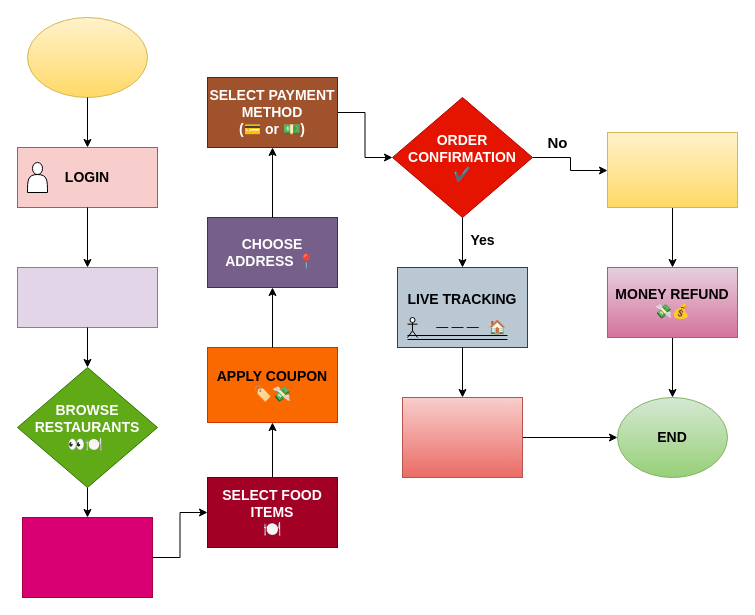
The diagram is 755 pixels wide and 615 high, and some of its shapes have lost their labels. Here are the shapes that lost their labels. From the top down, the centre of each, then its label:
At (x=87, y=57): "START".
At (x=672, y=170): "PAYMENT FAILED ⚠️".
At (x=87, y=297): "HOME SCREEN 🏠".
At (x=462, y=437): "ORDER DELIVERED TO USER ✅".
At (x=87, y=557): "VIEW RESTAURANT MENU 🧾 ☰".
